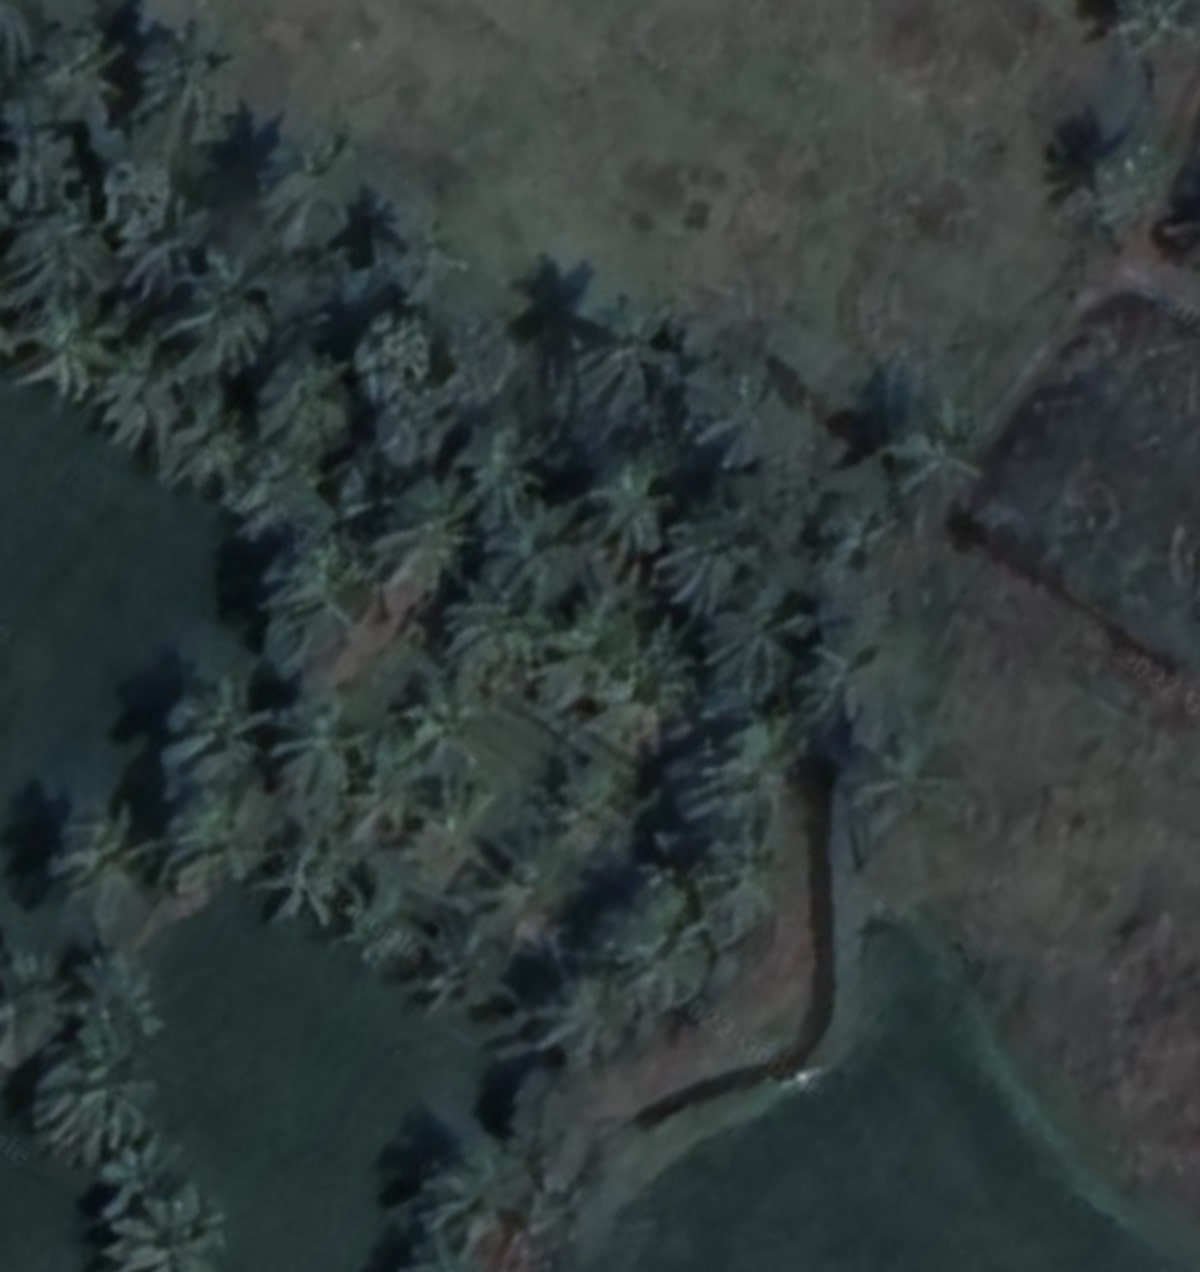coconut: (242, 114, 378, 242), (359, 476, 477, 613), (871, 405, 991, 527), (564, 295, 681, 418), (28, 794, 153, 906), (95, 195, 218, 301), (126, 20, 253, 121), (155, 672, 261, 792), (523, 968, 639, 1075), (47, 1046, 158, 1157), (633, 518, 755, 615), (83, 356, 198, 458), (259, 356, 361, 465), (580, 444, 678, 556), (486, 476, 580, 590), (256, 694, 355, 797), (73, 936, 161, 1043), (132, 1185, 230, 1272), (267, 842, 344, 934), (426, 747, 489, 840)
